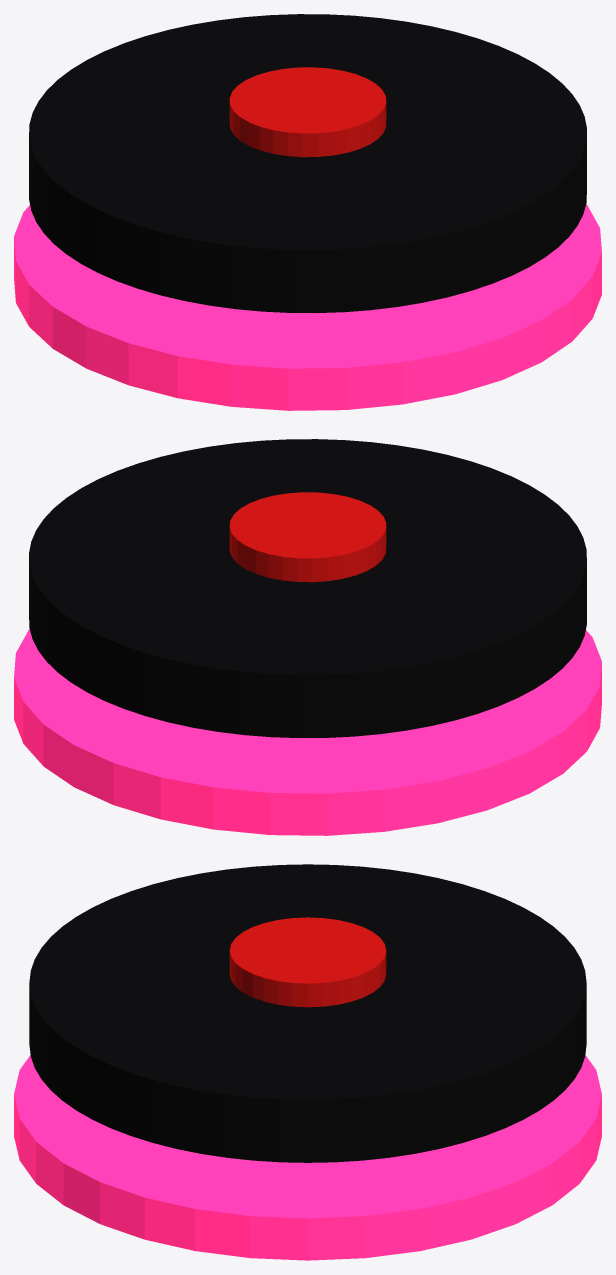
File: music_vinyl_record.dae
3 renders of one model, top to bottom at view 1: azimuth 30°, elevation 25°; view 2: azimuth 150°, elevation 25°; view 3: azimuth 270°, elevation 25°, orthographic.
Visible parts, largest first — view 1: 07_07_Popular_Music_Vinyl_Record_part_01, 07_07_Popular_Music_Vinyl_Record_ROOT_base, 07_07_Popular_Music_Vinyl_Record_part_02; view 2: 07_07_Popular_Music_Vinyl_Record_part_01, 07_07_Popular_Music_Vinyl_Record_ROOT_base, 07_07_Popular_Music_Vinyl_Record_part_02; view 3: 07_07_Popular_Music_Vinyl_Record_part_01, 07_07_Popular_Music_Vinyl_Record_ROOT_base, 07_07_Popular_Music_Vinyl_Record_part_02.
Part boxes in pixels (<box>): 07_07_Popular_Music_Vinyl_Record_part_01: <box>29,14,586,312</box>; 07_07_Popular_Music_Vinyl_Record_ROOT_base: <box>14,204,601,410</box>; 07_07_Popular_Music_Vinyl_Record_part_02: <box>229,67,386,157</box>; 07_07_Popular_Music_Vinyl_Record_part_01: <box>29,439,586,737</box>; 07_07_Popular_Music_Vinyl_Record_ROOT_base: <box>14,629,601,835</box>; 07_07_Popular_Music_Vinyl_Record_part_02: <box>229,492,386,582</box>; 07_07_Popular_Music_Vinyl_Record_part_01: <box>29,864,586,1162</box>; 07_07_Popular_Music_Vinyl_Record_ROOT_base: <box>14,1055,601,1260</box>; 07_07_Popular_Music_Vinyl_Record_part_02: <box>229,917,386,1007</box>.
Bounding box in the file's own units: 0.76 × 0.265 × 0.76.
